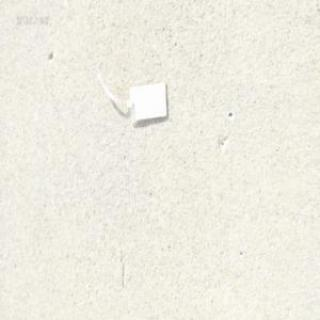LuggageTagtrack_idkeyframe: (91, 74, 167, 124)
